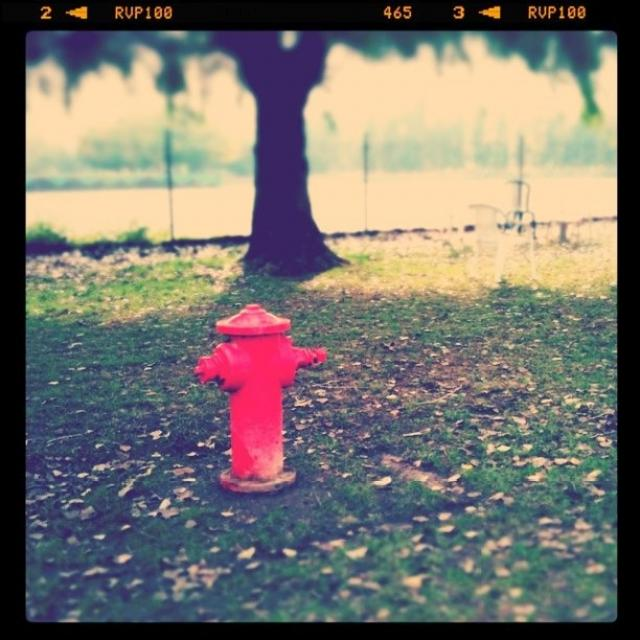fire_hydrant: (194, 304, 328, 490)
